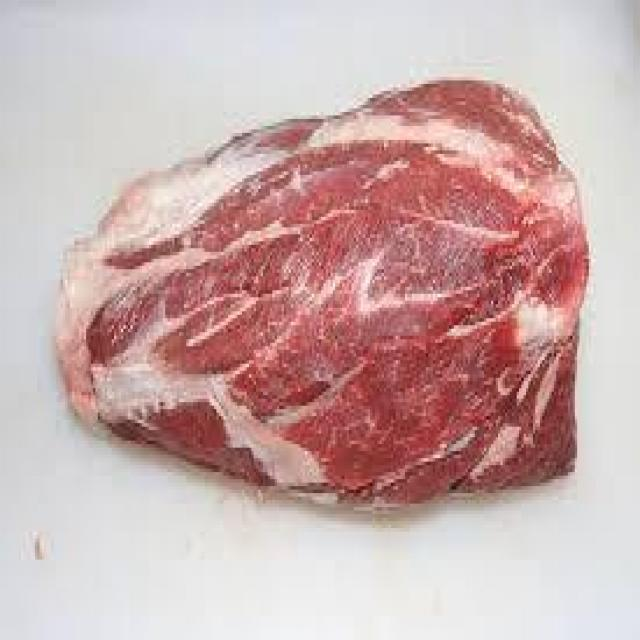beef: (48, 67, 615, 528)
